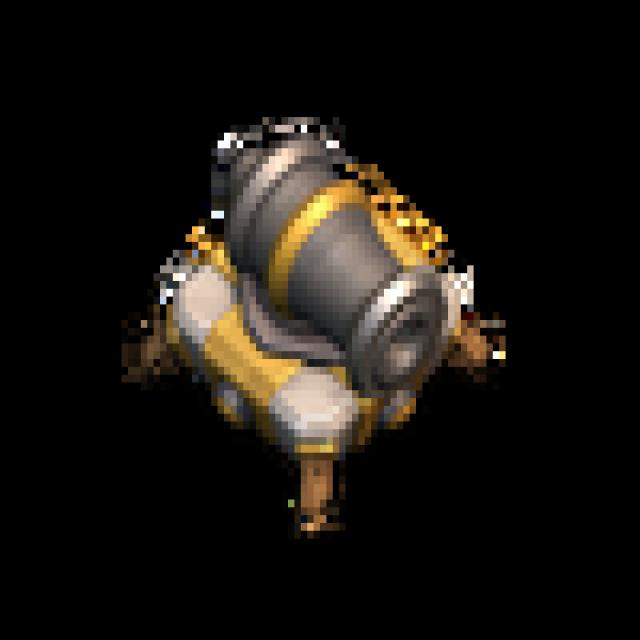cannon: (131, 94, 529, 534)
